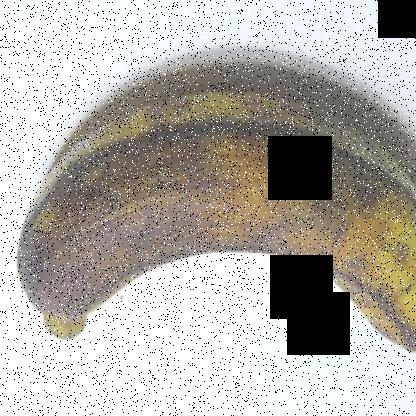overripe: (8, 62, 415, 370)
